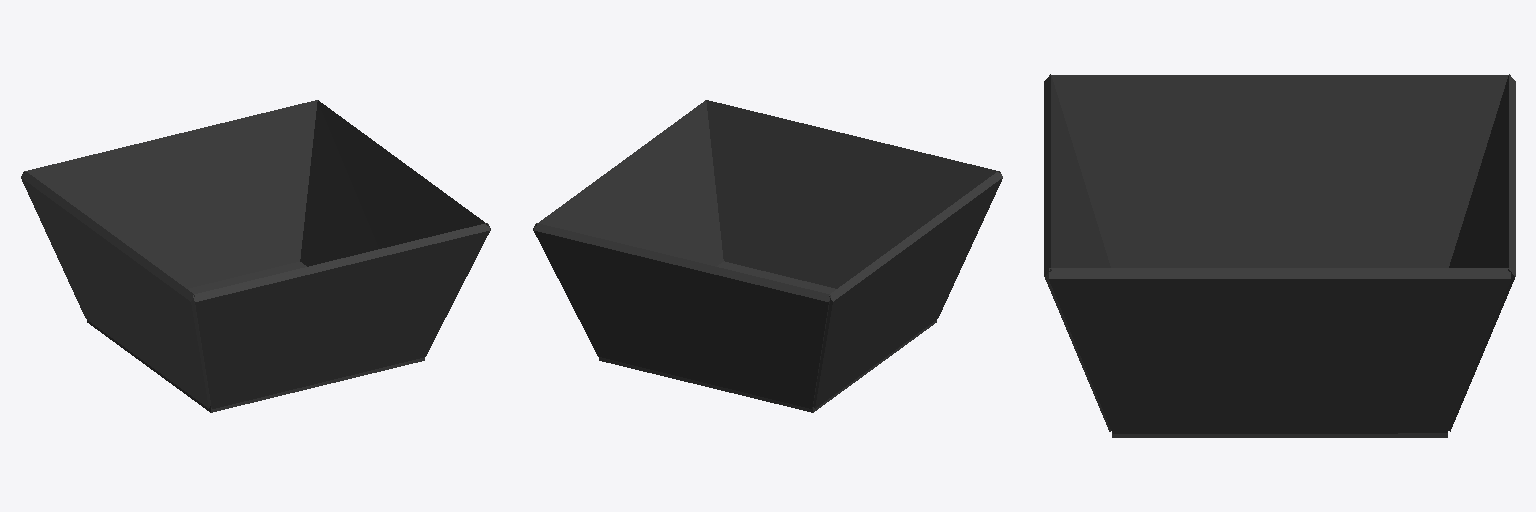
URDF robot description (tabletop):
<?xml version="0.0" ?>
<robot name="tabletop">
  <link name="base_link">
    <inertial>
      <origin rpy="0 0 0" xyz="0 0 0"/>
      <mass value="0"/>
      <inertia ixx="0" ixy="0" ixz="0" iyy="0" iyz="0" izz="0"/>
    </inertial>
    <visual>
      <origin rpy="0 0 0" xyz="0 0 0"/>
      <geometry>
        <mesh filename="tray_textured.obj" scale="0.5 0.5 1.0"/>
      </geometry>
      <material name="tray_material">
        <color rgba="0.282352 0.282352 0.282352 1"/>
      </material>
    </visual>
    
    <!--visual>
      <origin rpy="0 0 0" xyz="0 0 0.005"/>
      <geometry>
	 			<box size=".6 .6 .02"/>
      </geometry>
    </visual>
     <visual>
      <origin rpy="0 0.575469961 0" xyz="0.25 0 0.059"/>
      <geometry>
	 			<box size=".02 .6 .3"/>
      </geometry>
    </visual>
    <visual>
      <origin rpy="0 -0.575469961 0" xyz="-0.25 0 0.059"/>
      <geometry>
	 			<box size=".02 .6 .3"/>
      </geometry>
    </visual>
    <visual>
      <origin rpy="0.575469961 0 0" xyz="0 -0.25 0.059"/>
      <geometry>
	 			<box size=".6 .02 .3"/>
      </geometry>
    </visual>
    <visual>
      <origin rpy="-0.575469961 0 0" xyz="0 0.25 0.059"/>
      <geometry>
	 			<box size=".6 .02 .3"/>
      </geometry>
    </visual-->
    
     <collision>
      <origin rpy="0 0 0" xyz="0 0 0.005"/>
      <geometry>
	 			<box size=".6 .6 .02"/>
      </geometry>
    </collision>
     <collision>
      <origin rpy="0 0.35 0" xyz="0.27 0 0.12"/>
      <geometry>
	 			<box size=".02 .6 .3"/>
      </geometry>
    </collision>
		<collision>
      <origin rpy="0 -0.35 0" xyz="-0.27 0 0.12"/>
      <geometry>
	 			<box size=".02 .6 .3"/>
      </geometry>
    </collision>
    <collision>
      <origin rpy="0.35 0 0" xyz="0 -0.27 0.12"/>
      <geometry>
	 			<box size=".6 .02 .3"/>
      </geometry>
    </collision>
    <collision>
      <origin rpy="-0.35 0 0" xyz="0 0.27 0.12"/>
      <geometry>
	 			<box size=".6 .02 .3"/>
      </geometry>
    </collision>

  </link>
</robot>

--- What the picture shows (computed from the rendered views, not written in the file) ---
3 views of the same robot in one strip: view 1: azimuth 30°, elevation 25°; view 2: azimuth 150°, elevation 25°; view 3: azimuth 270°, elevation 25° (orthographic).
Robot: tabletop — 1 links, 0 joints (none); root link base_link; default pose: all joints at 0.
Visible links, largest first — view 1: base_link; view 2: base_link; view 3: base_link.
Link boxes in pixels (box(x1,y1,x2,y2)): base_link: box(21, 100, 490, 412); base_link: box(533, 100, 1002, 412); base_link: box(1044, 74, 1515, 437).
Size in the robot's own frame: 0.5901 by 0.5901 by 0.2712 metres.
Meshes: 1 distinct files referenced, 1 mesh visuals loaded (1 OBJ).